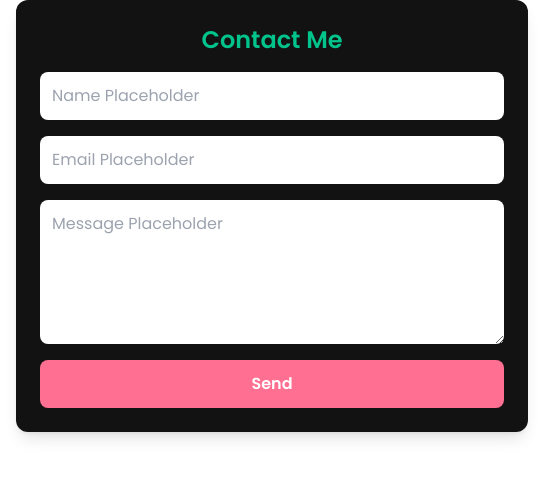
Scenario: MessageMe › should submit a message and show the result
Type "John Doe" into the field with placeholder "Name Placeholder" at x=272, y=96, box [40,72,504,120]
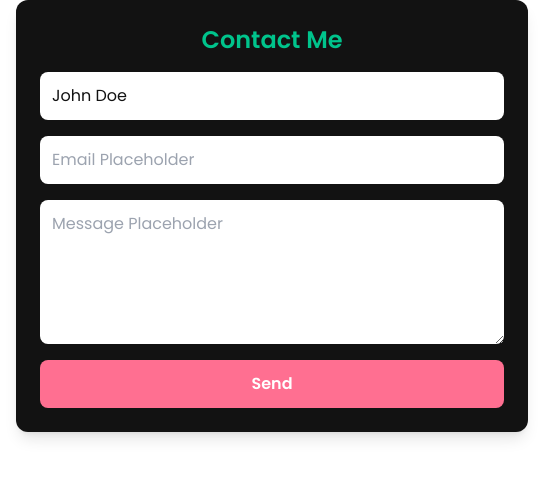
Type "john@example.com" into the field with placeholder "Email Placeholder" at x=272, y=160, box [40,136,504,184]
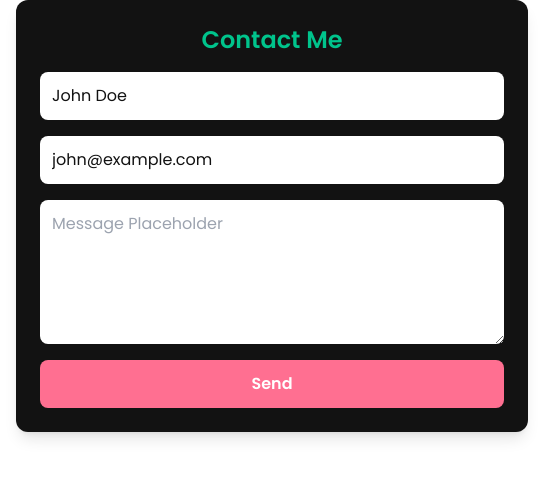
Type "Hello" into the text box with placeholder "Message Placeholder" at x=272, y=272, box [40,200,504,344]
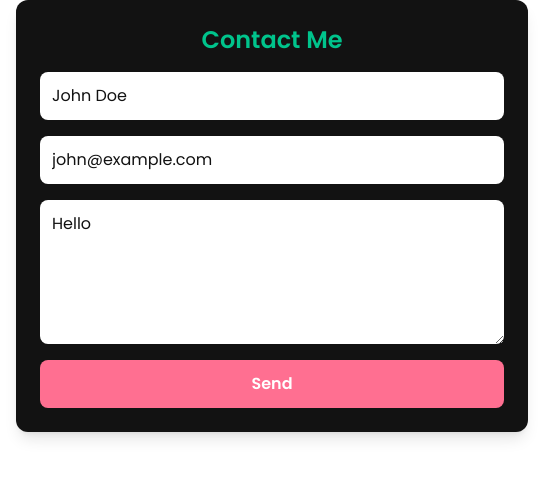
Click the button "Send" at x=272, y=384, box [40,360,504,408]
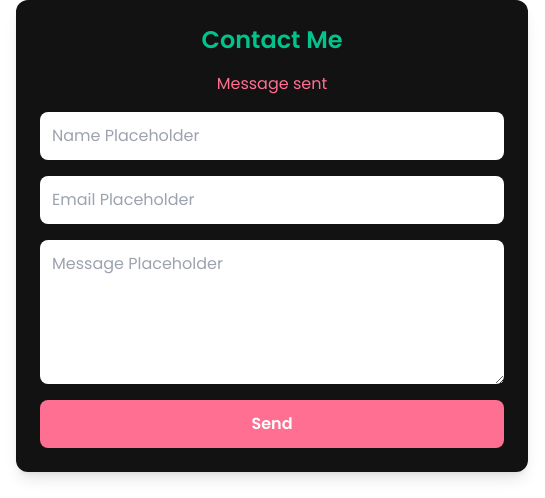
Expected: the button "Sending..." is shown, [40,400,504,448]
Result: the text "Message sent" is shown at [217,72,327,95]
